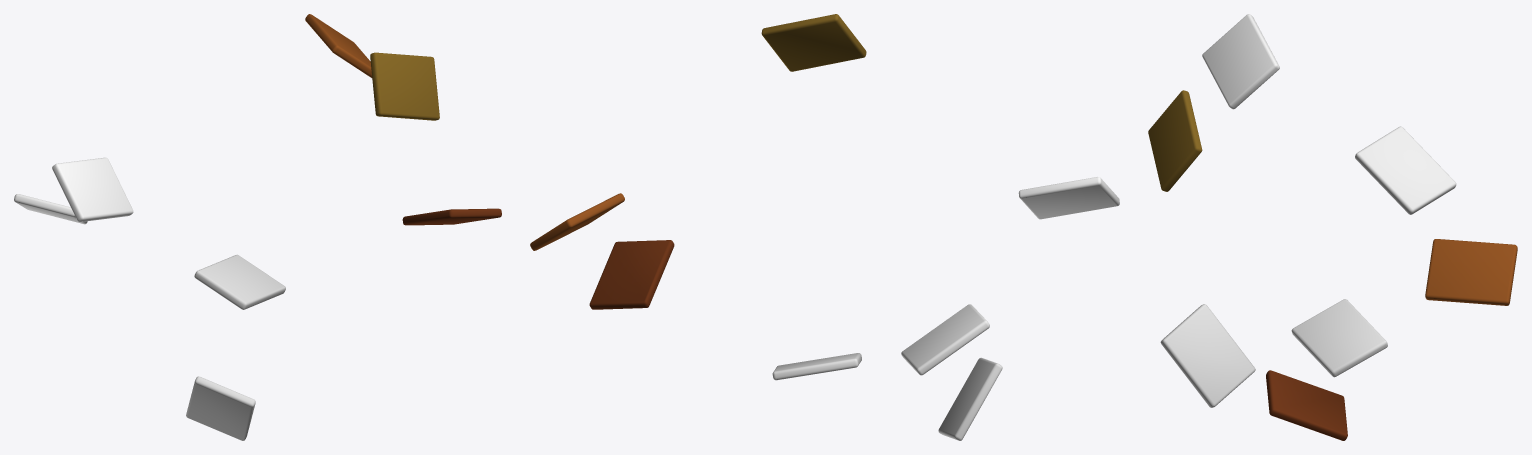
File: falling-leaves.obj
The picture shows the model from 3 angles, left to right: view 1: azimuth 30°, elevation 25°; view 2: azimuth 150°, elevation 25°; view 3: azimuth 270°, elevation 25°; orthographic projection. The views are drawn at different scales.
Visible parts, largest first — view 1: falling-leaves; view 2: falling-leaves; view 3: falling-leaves.
Part boxes in pixels (bbox=[...]): falling-leaves: bbox=[14, 14, 501, 440]; falling-leaves: bbox=[530, 14, 1119, 440]; falling-leaves: bbox=[1148, 14, 1517, 440].
Bounding box in the file's own units: 0.8221 × 0.6302 × 0.5615.
